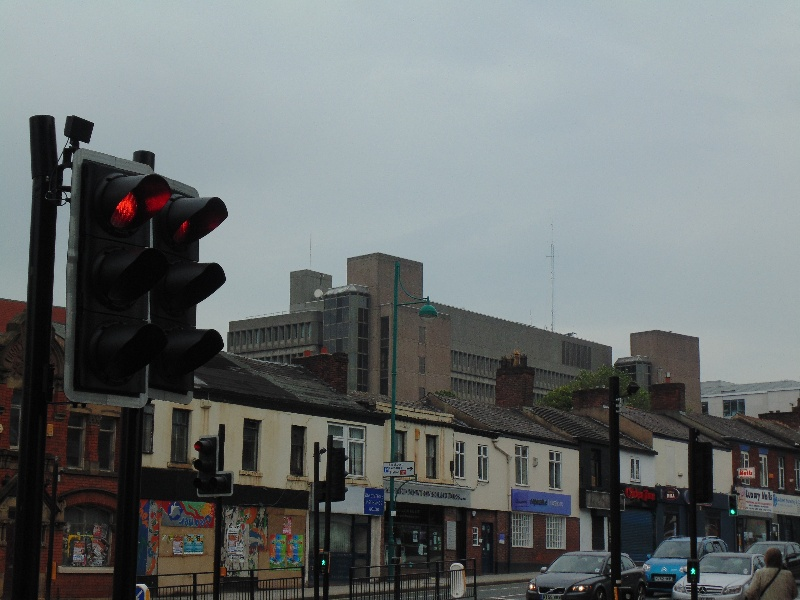red_light: (84, 162, 174, 238)
